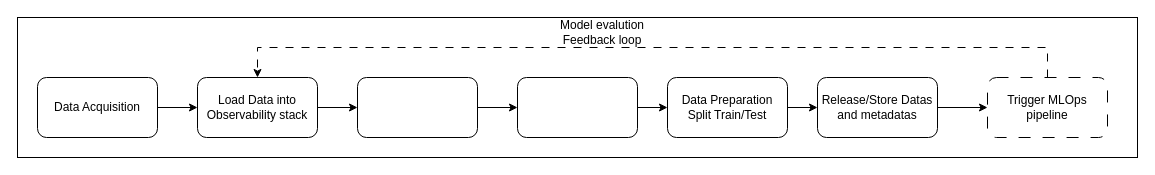
Some shapes in this 1155 by 175 pixel diagram are drawn without their labels. Each missing label, with the centre of its shape:
Data Analysis: the point at 417,107
Data Transformation: the point at 577,107
